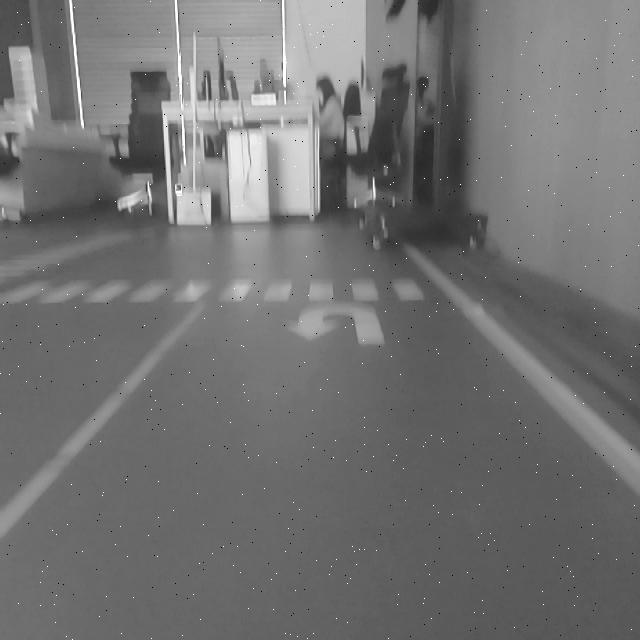left_lane: (0, 302, 205, 547)
right_lane: (401, 235, 640, 499)
